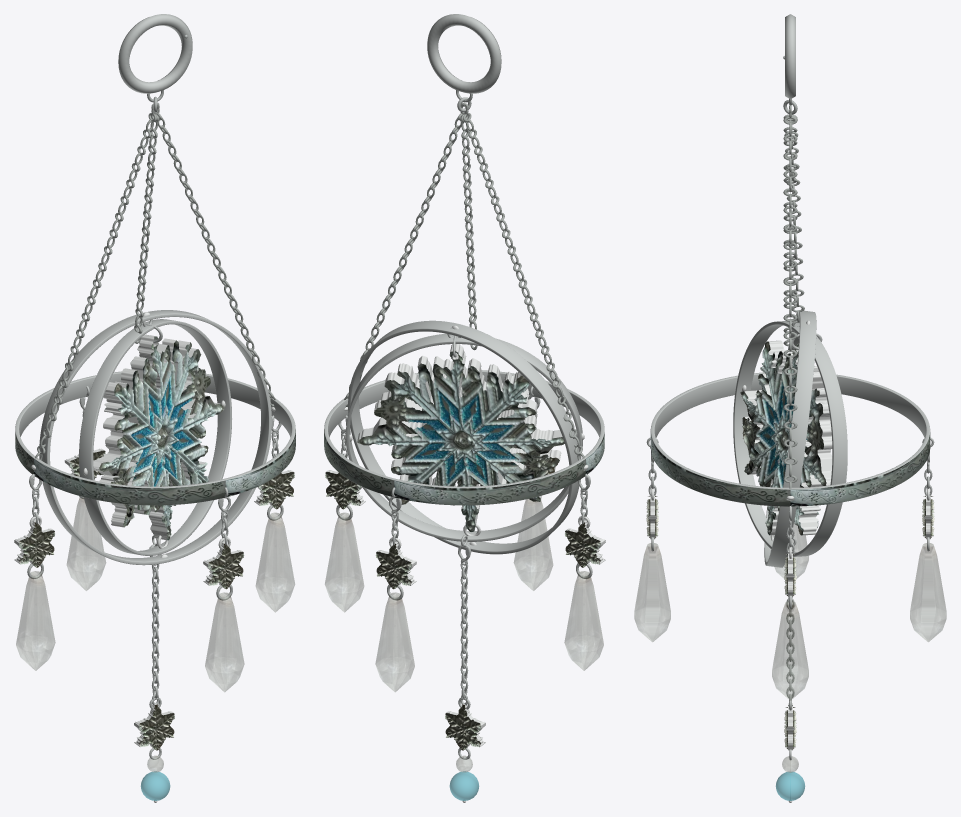
Rendered from snowflake-ornament.glb.
3 renders of one model, left to right at view 1: azimuth 30°, elevation 25°; view 2: azimuth 150°, elevation 25°; view 3: azimuth 270°, elevation 25°, orthographic.
Visible parts, largest first — view 1: SnowflakeCore_Photographic medallion face, OuterRing_Aged silver, InnerRing_Aged silver, MiddleRing_Aged silver, CrystalBranch1Payload_Clear faceted drops, CrystalBranch3Payload_Clear faceted drops, CrystalBranch2Payload_Clear faceted drops, TopMount_Aged silver, UpperLeft_Aged silver, CrystalBranch4Payload_Clear faceted drops, UpperRight_Aged silver, UpperCenter_Aged silver (+6 smaller); view 2: SnowflakeCore_Photographic medallion face, OuterRing_Aged silver, MiddleRing_Aged silver, InnerRing_Aged silver, CrystalBranch1Payload_Clear faceted drops, CrystalBranch4Payload_Clear faceted drops, CrystalBranch2Payload_Clear faceted drops, TopMount_Aged silver, UpperLeft_Aged silver, CrystalBranch3Payload_Clear faceted drops, UpperRight_Aged silver, UpperCenter_Aged silver (+6 smaller); view 3: OuterRing_Aged silver, SnowflakeCore_Photographic medallion face, InnerRing_Aged silver, MiddleRing_Aged silver, CrystalBranch3Payload_Clear faceted drops, CrystalBranch4Payload_Clear faceted drops, CrystalBranch2Payload_Clear faceted drops, UpperRight_Aged silver, UpperCenter_Aged silver, TopMount_Aged silver, UpperLeft_Aged silver, BlueBranchPayload_Translucent aqua bead (+1 smaller).
Boxes of the visible parts, box(x1,y1,x2,y2) form: SnowflakeCore_Photographic medallion face: box(93, 334, 224, 540); OuterRing_Aged silver: box(15, 371, 295, 505); InnerRing_Aged silver: box(79, 319, 231, 555); MiddleRing_Aged silver: box(39, 310, 271, 565); CrystalBranch1Payload_Clear faceted drops: box(16, 571, 55, 670); CrystalBranch3Payload_Clear faceted drops: box(205, 592, 244, 691); CrystalBranch2Payload_Clear faceted drops: box(256, 513, 294, 612); TopMount_Aged silver: box(118, 14, 192, 93); UpperLeft_Aged silver: box(33, 102, 159, 470); CrystalBranch4Payload_Clear faceted drops: box(67, 497, 105, 590); UpperRight_Aged silver: box(151, 103, 275, 407); UpperCenter_Aged silver: box(134, 104, 159, 343); SnowflakeCore_Photographic medallion face: box(357, 344, 564, 531); OuterRing_Aged silver: box(324, 370, 604, 505); MiddleRing_Aged silver: box(348, 320, 580, 554); InnerRing_Aged silver: box(345, 333, 582, 541); CrystalBranch1Payload_Clear faceted drops: box(564, 571, 603, 670); CrystalBranch4Payload_Clear faceted drops: box(375, 592, 414, 691); CrystalBranch2Payload_Clear faceted drops: box(325, 513, 363, 612); TopMount_Aged silver: box(427, 14, 501, 93); UpperLeft_Aged silver: box(460, 102, 586, 470); CrystalBranch3Payload_Clear faceted drops: box(514, 499, 552, 590); UpperRight_Aged silver: box(344, 103, 468, 407); UpperCenter_Aged silver: box(460, 102, 477, 350); OuterRing_Aged silver: box(650, 372, 930, 506); SnowflakeCore_Photographic medallion face: box(740, 340, 832, 535); InnerRing_Aged silver: box(733, 321, 847, 556); MiddleRing_Aged silver: box(764, 310, 816, 567); CrystalBranch3Payload_Clear faceted drops: box(634, 543, 670, 641); CrystalBranch4Payload_Clear faceted drops: box(910, 543, 946, 641); CrystalBranch2Payload_Clear faceted drops: box(772, 601, 808, 700); UpperRight_Aged silver: box(783, 105, 797, 500); UpperCenter_Aged silver: box(784, 105, 804, 338); TopMount_Aged silver: box(785, 14, 795, 99); UpperLeft_Aged silver: box(783, 106, 797, 346); BlueBranchPayload_Translucent aqua bead: box(775, 772, 805, 800).
Bounding box in the file's own units: 2.31 × 6.28 × 2.27.
10 materials, 4 textured.
